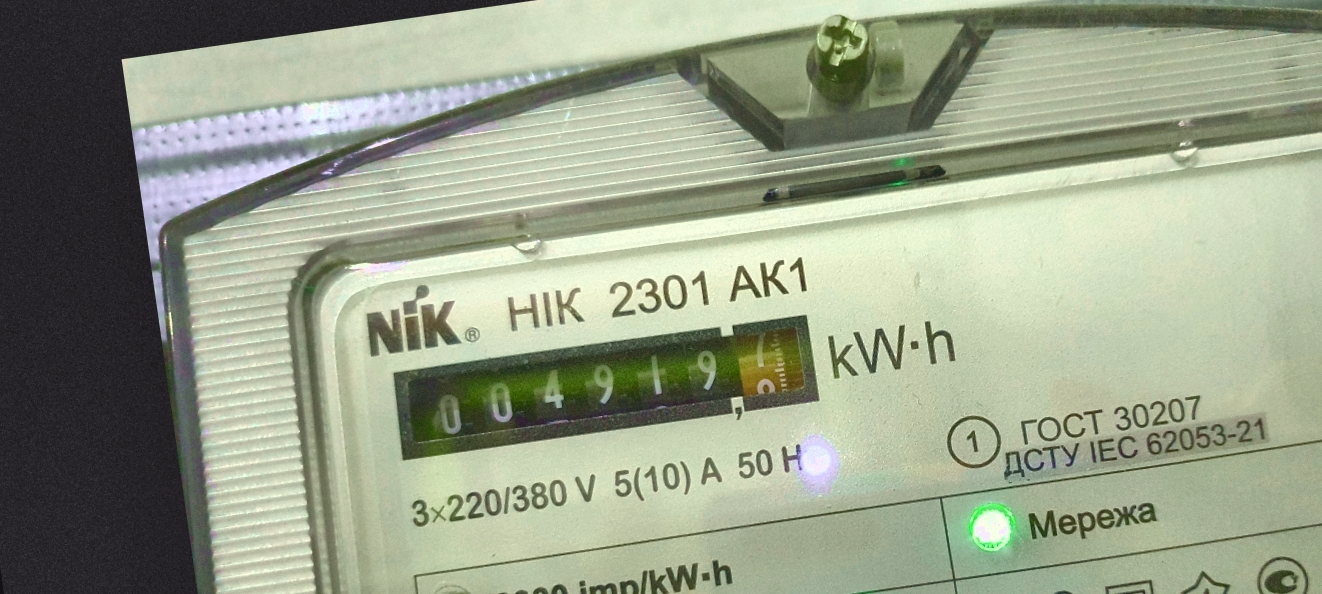0: (484, 377, 516, 426), (434, 390, 464, 436)
1: (644, 351, 665, 398)
4: (536, 365, 566, 411)
7: (743, 328, 772, 371)
9: (692, 345, 721, 394), (589, 361, 618, 407)
screen: (377, 297, 838, 479)
